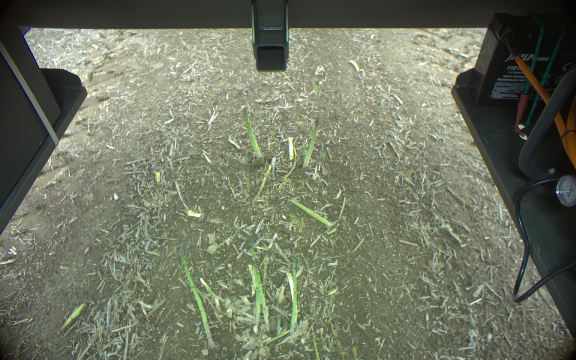aspa: (176, 243, 215, 349), (249, 260, 273, 332), (247, 232, 262, 333), (289, 196, 332, 227), (241, 105, 263, 157), (288, 246, 300, 337), (301, 118, 319, 167), (286, 135, 295, 160)
